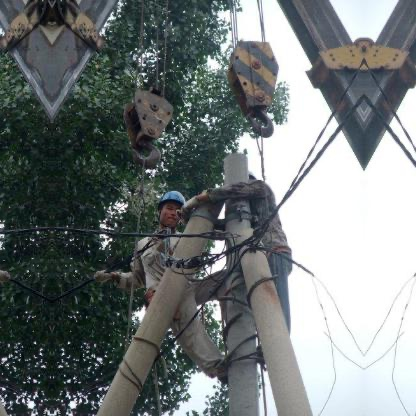Safety Helmet: (153, 187, 194, 237)
